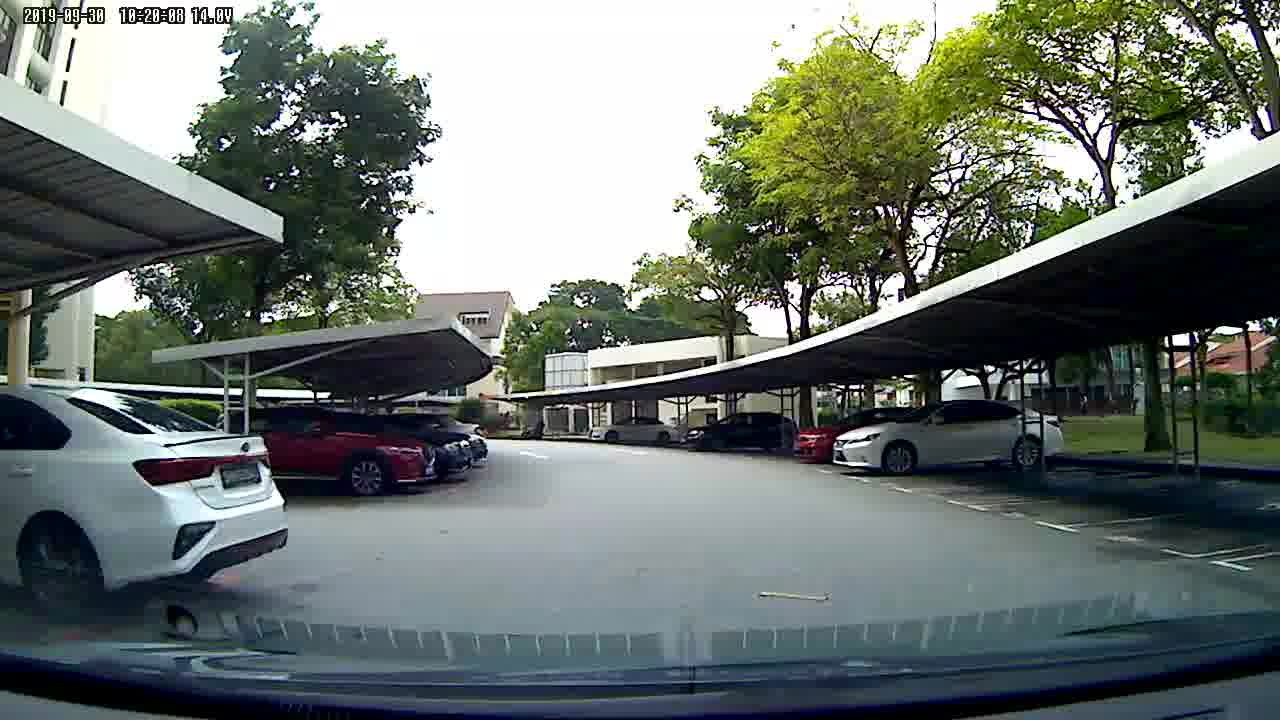car: (1, 380, 301, 621), (276, 392, 489, 498), (833, 399, 1066, 474), (679, 412, 803, 451), (585, 412, 681, 444)
